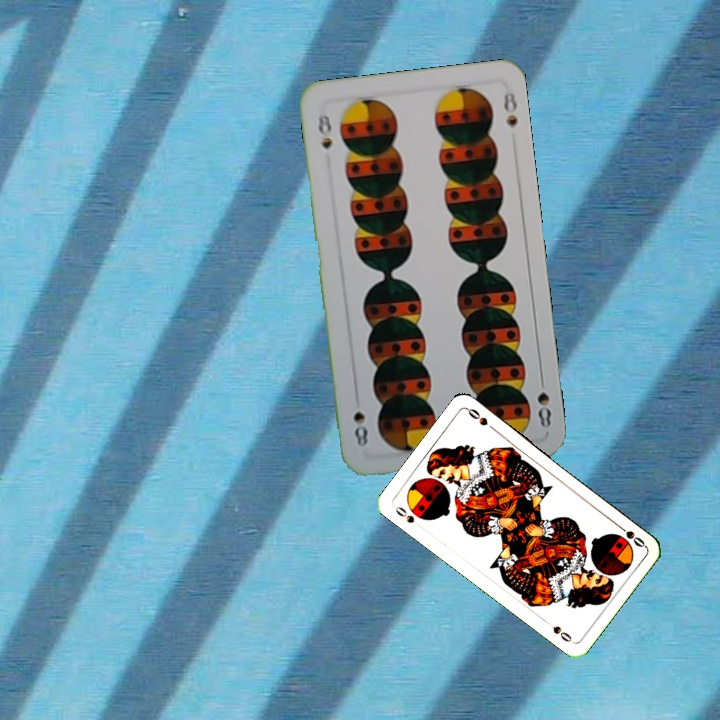S8: (533, 371, 554, 430), (314, 108, 334, 152)
SO: (613, 520, 648, 550), (391, 502, 425, 531)
